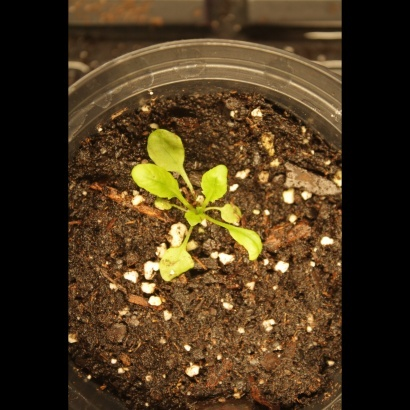leaf: (126, 162, 182, 210), (144, 121, 189, 177), (221, 224, 273, 268), (156, 237, 198, 287), (199, 157, 232, 205), (216, 199, 249, 229), (182, 208, 205, 231), (150, 194, 173, 217)
